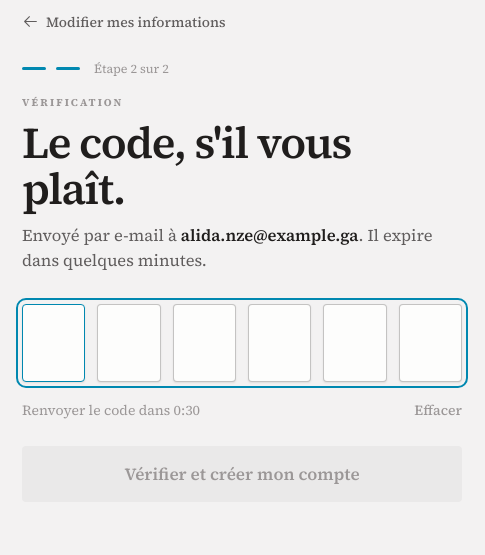
Test: OtpVerificationPage › bloque la saisie après trop de tentatives
This screenshot has width=485, height=555.
In the field named "Code à six chiffres": (242, 343) [22, 304, 462, 382], type "123456"
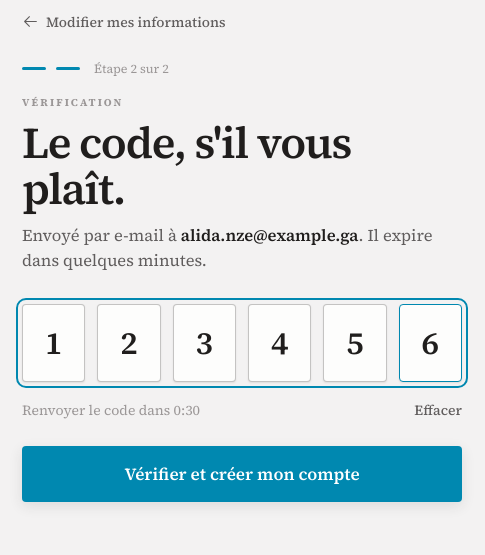
Click the button "Vérifier et créer mon compte": click(242, 474) [22, 446, 462, 502]
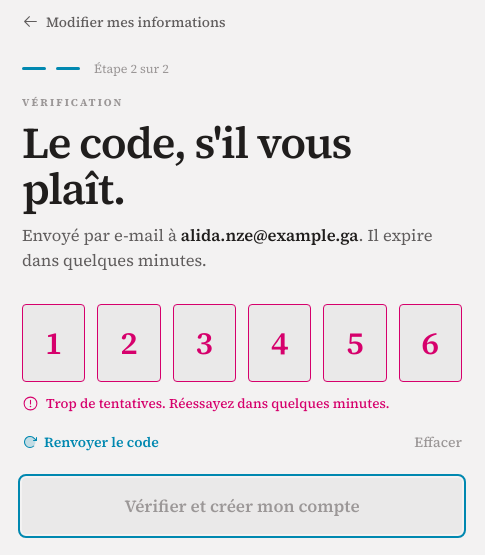
Result: the message reads "Trop de tentatives. Réessayez dans quelques minutes." at [46, 394, 390, 413]
Result: the field named "Code à six chiffres" is disabled at [22, 304, 462, 382]
Renvoi forcé : disponible tout de suite, et il débloque la saisie.
Click the button "Renvoyer le code": click(90, 442) [22, 432, 159, 452]
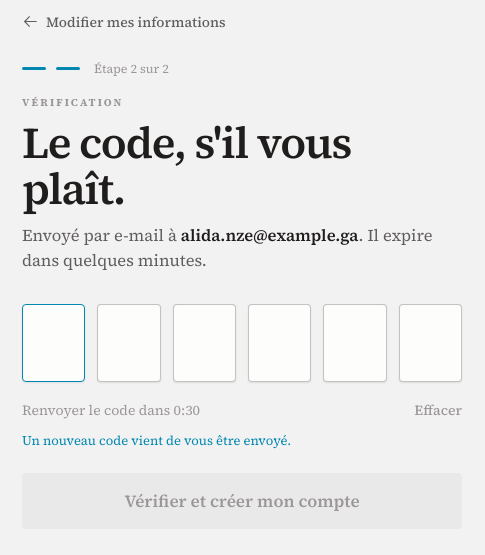
Result: the field named "Code à six chiffres" is enabled at [22, 304, 462, 382]
